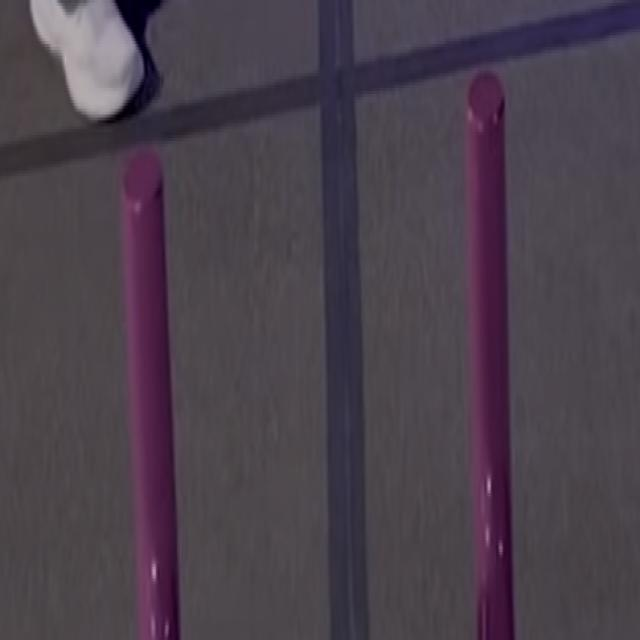Reef: (122, 152, 185, 640), (466, 71, 516, 640)
